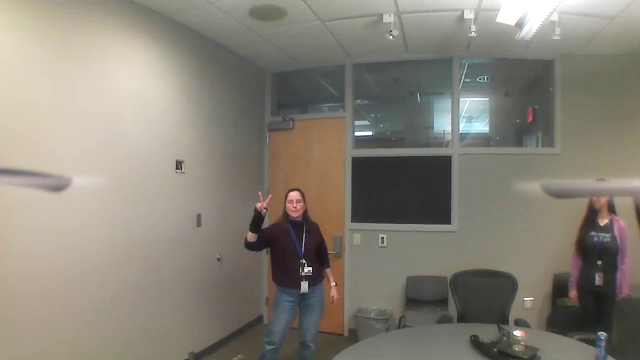peace: (252, 189, 274, 219)
